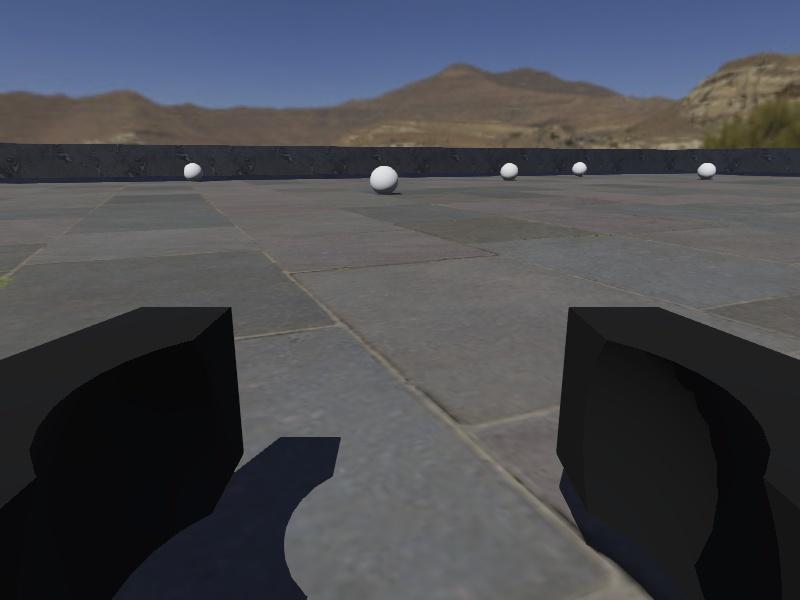white ball: (368, 164, 398, 195), (183, 162, 203, 182), (499, 162, 520, 181), (697, 161, 718, 179), (571, 160, 588, 176)
